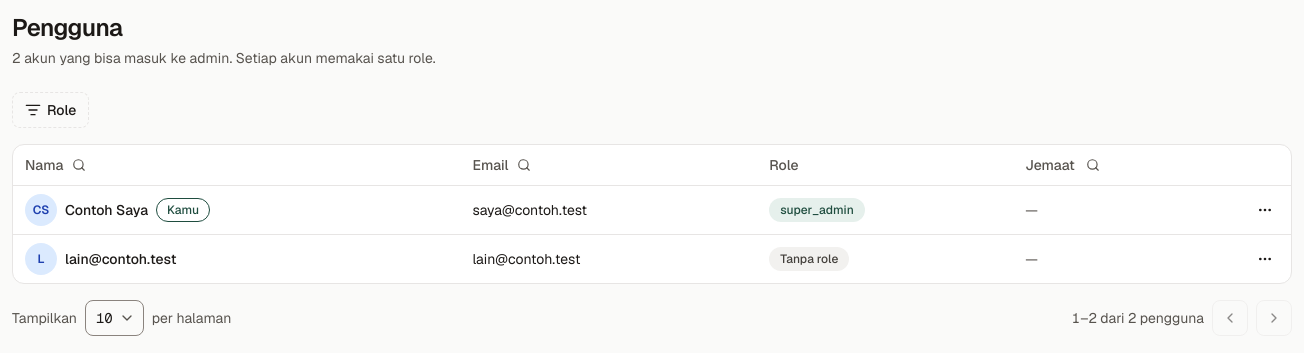
UsersManager › without users:create / users:delete: no invite button, no Hapus
Click the button named "Aksi untuk lain@contoh.test". click: [1265, 258]
box: [1251,244,1279,272]
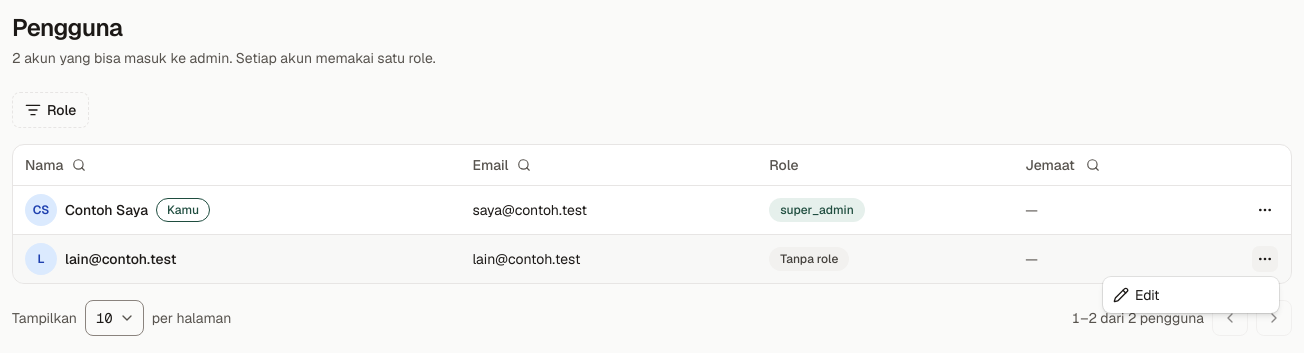
Expected: the menu item "Edit" is shown, [1113,286,1160,304]
